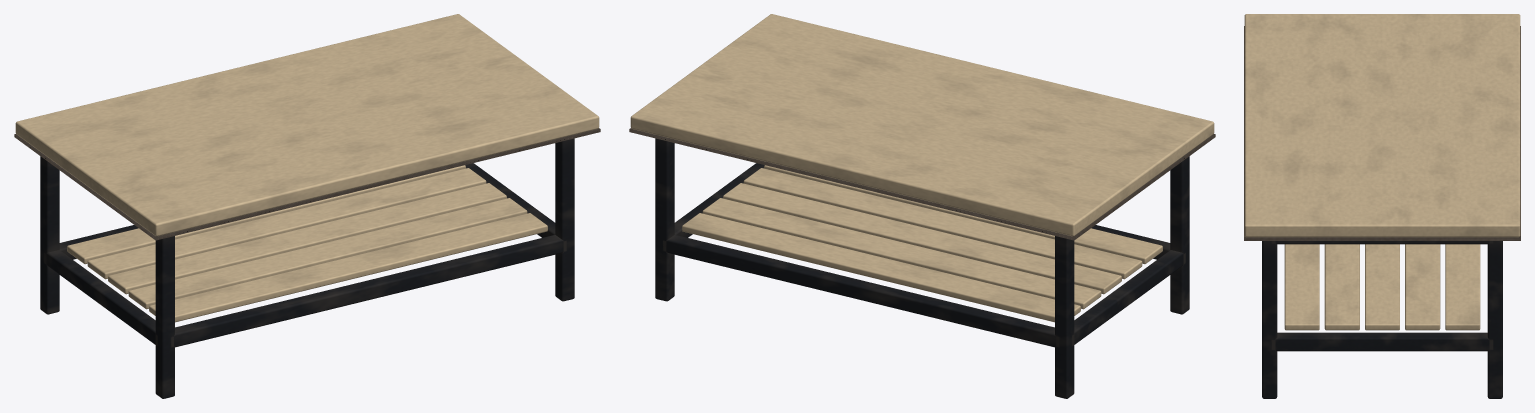
Rendered from dom_stolik.glb.
3 views of the same model, side by side, from view 1: azimuth 30°, elevation 25°; view 2: azimuth 150°, elevation 25°; view 3: azimuth 270°, elevation 25° (orthographic). The views are drawn at different scales.
Visible parts, largest first — view 1: Stolik; view 2: Stolik; view 3: Stolik.
Part boxes in pixels (bbox=[...]): Stolik: bbox=[14, 14, 600, 398]; Stolik: bbox=[629, 14, 1215, 398]; Stolik: bbox=[1244, 14, 1520, 398].
Bounding box in the file's own units: 1 × 0.4 × 0.552.
Materials: 1 (1 with a texture image).
